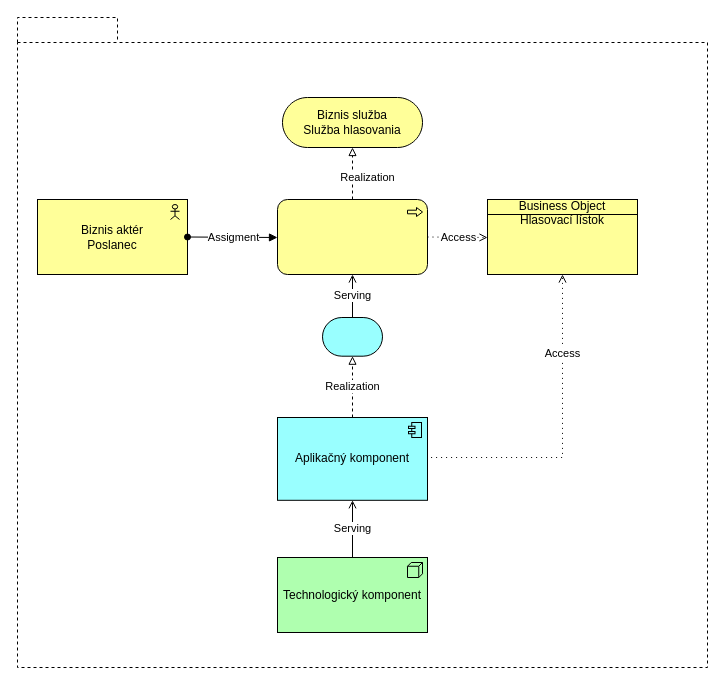
This 725x685 diagram has some shape labels left out. Here are the shapes that lost their labels. From the top down, the centre of each, then its label:
At pixel 352 236: "Biznis proces Proces hlasovať".
At pixel 352 336: "Aplikačná služba".
